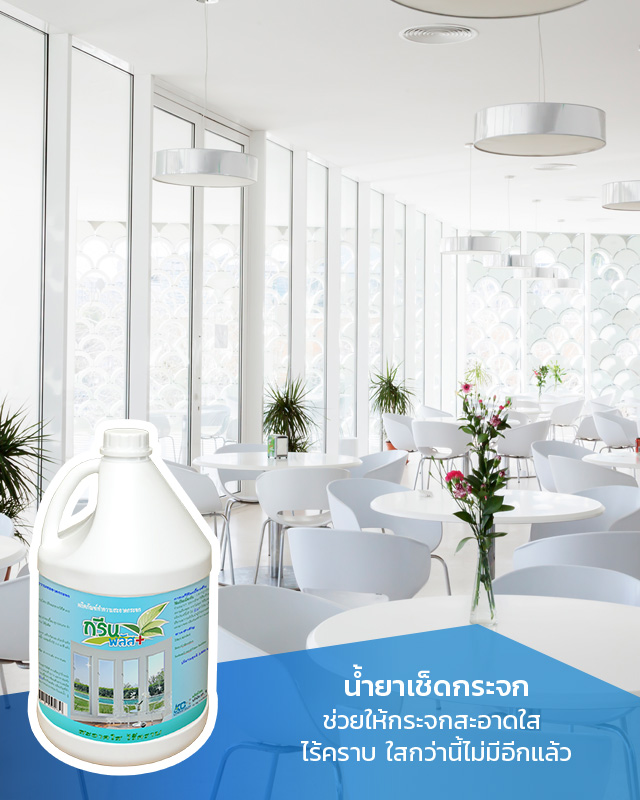Cleaning_solution: (28, 416, 219, 774)
